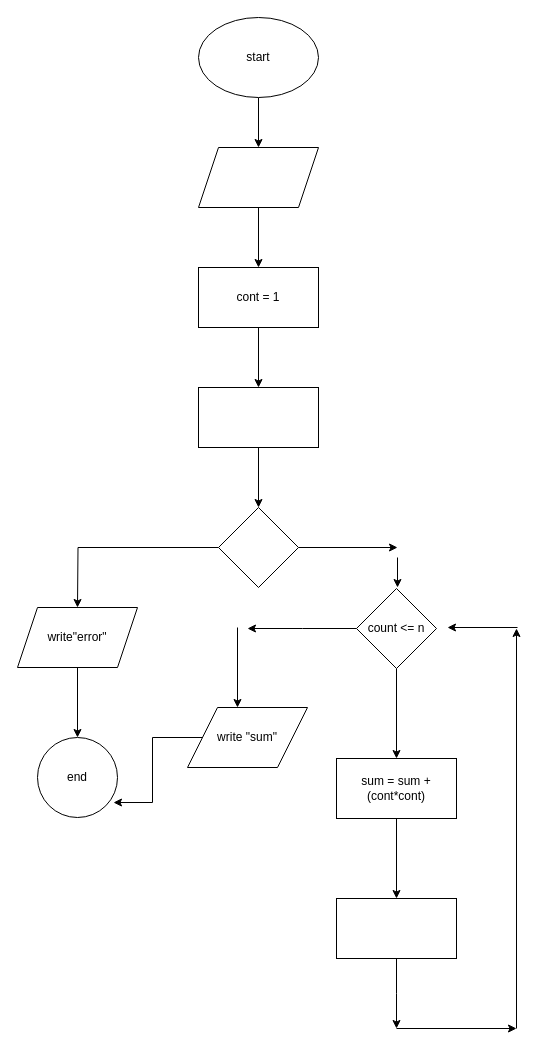
Some shapes in this 543 by 1054 pixel diagram are drawn without their labels. The box of each missing label's shape, as (x1, y1, x2, y2) in pixels:
cont =+ 1: (336, 898, 456, 958)
n > 0: (218, 506, 298, 588)
read n: (198, 146, 318, 208)
som = 0: (198, 386, 318, 448)
